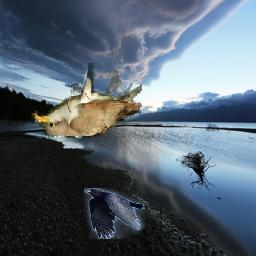Crow: (85, 189, 146, 240)
Cuckoo: (32, 64, 143, 139)
